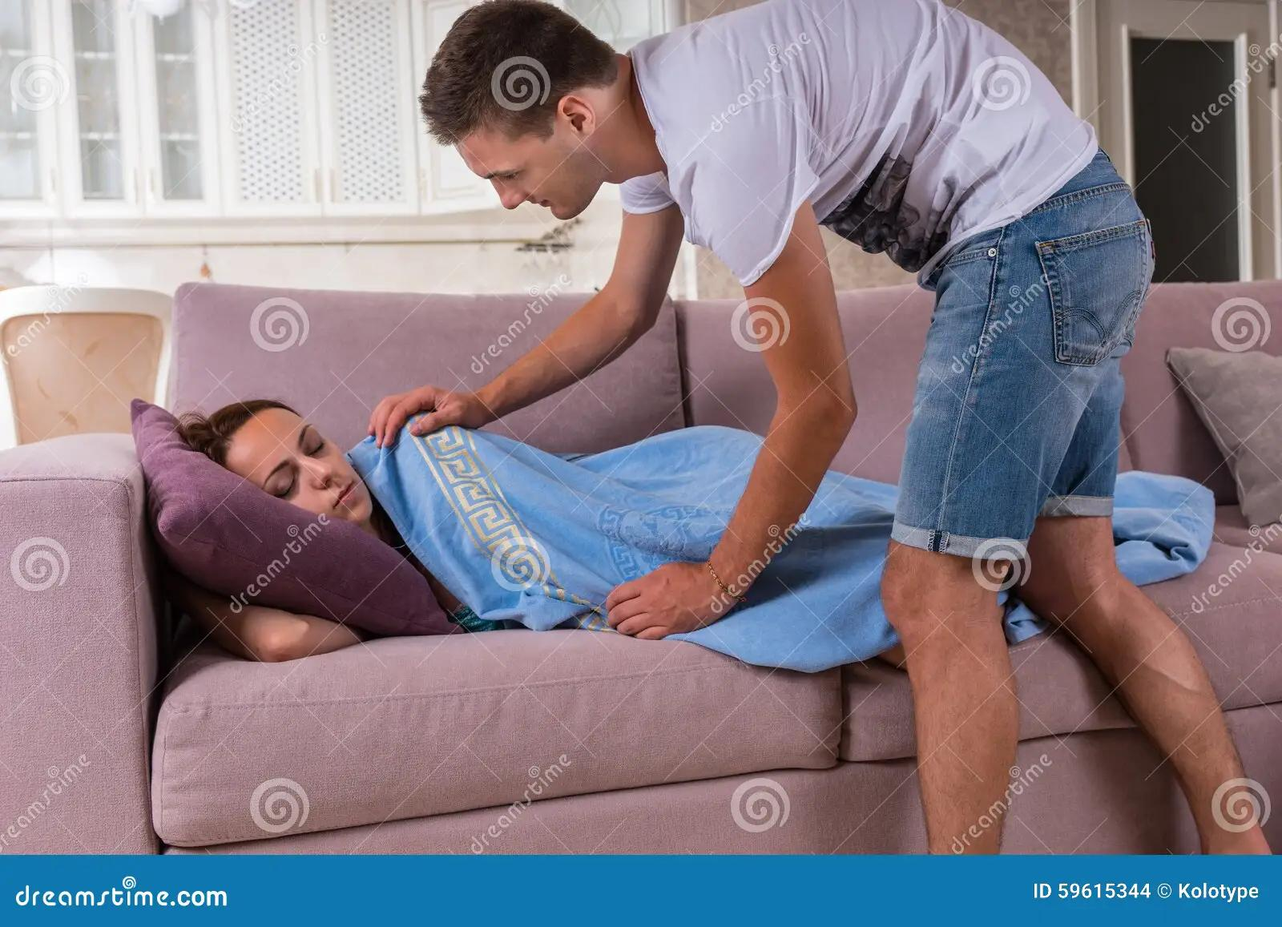blanket: (341, 410, 1220, 674), (885, 141, 1161, 554)
short sleeve shirt: (615, 0, 1104, 290)
